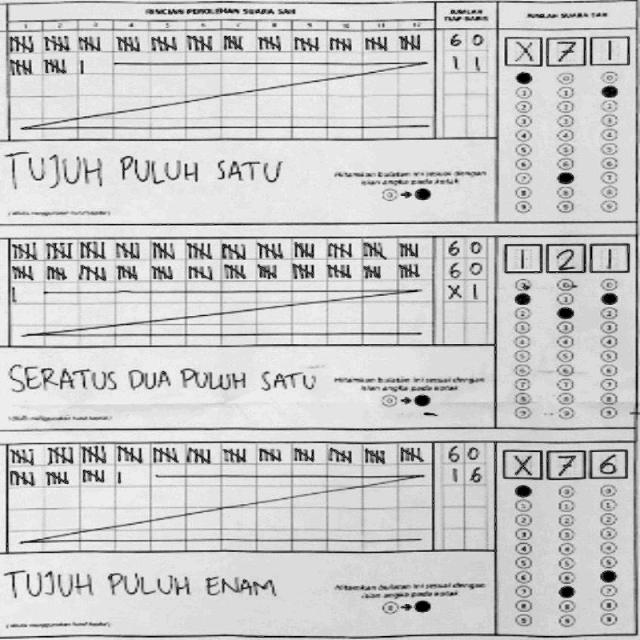Suara: (502, 438, 632, 479), (496, 238, 630, 274), (496, 33, 631, 63)
